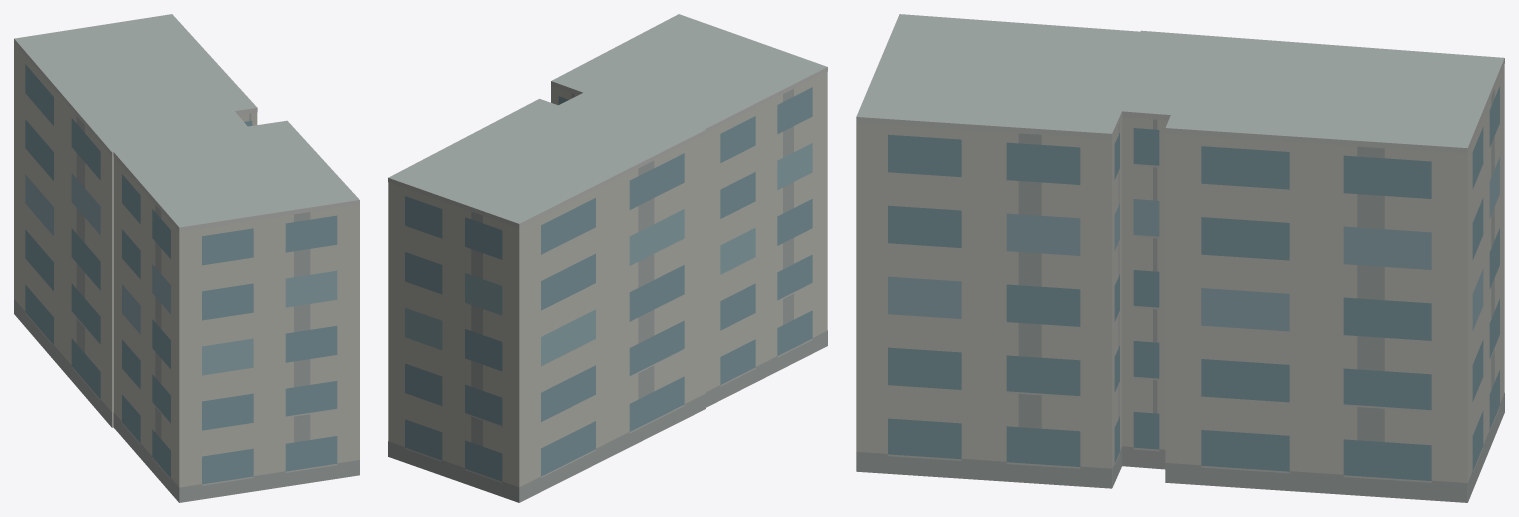
The model's file is survey-upis-32674702.glb.
3 views of the same model, side by side, from view 1: azimuth 30°, elevation 25°; view 2: azimuth 150°, elevation 25°; view 3: azimuth 270°, elevation 25° (orthographic). The views are drawn at different scales.
Visible parts, largest first — view 1: survey-upis-32674702.tmp; view 2: survey-upis-32674702.tmp; view 3: survey-upis-32674702.tmp.
Part boxes in pixels (x1,y1,x2,y2): survey-upis-32674702.tmp: (14,14,359,502); survey-upis-32674702.tmp: (388,14,827,502); survey-upis-32674702.tmp: (856,14,1504,502).
Bounding box in the file's own units: 12.18 × 15 × 24.86.
